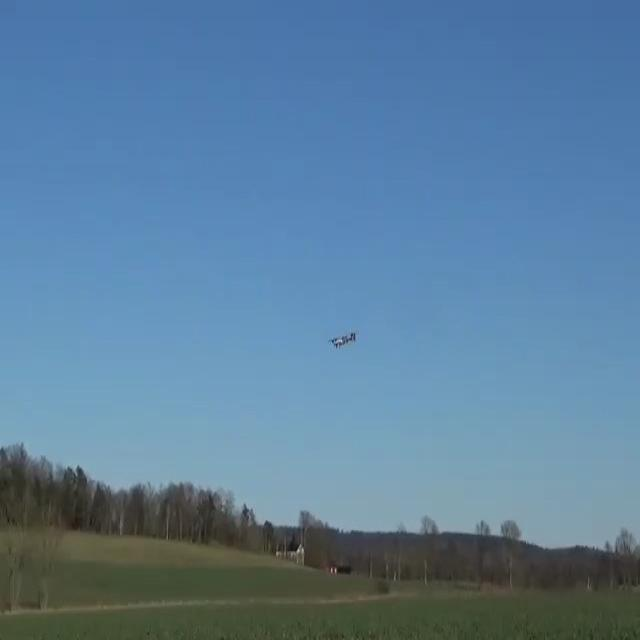drone: (328, 332, 358, 349)
